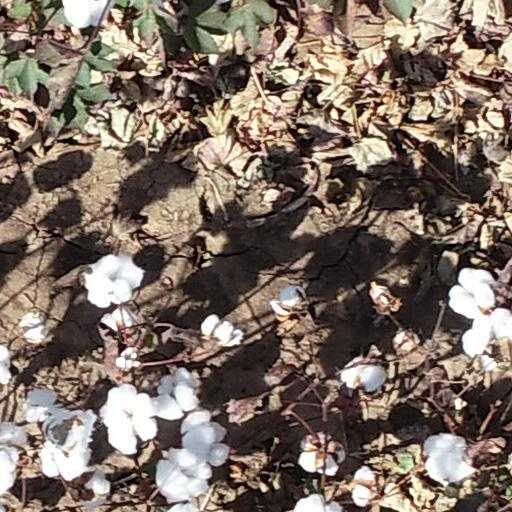Boll: (100, 386, 158, 447), (83, 253, 143, 305), (155, 448, 210, 501), (423, 433, 477, 486), (183, 409, 230, 466), (447, 265, 497, 317), (461, 309, 512, 356), (44, 410, 97, 450), (298, 432, 345, 476), (156, 368, 196, 418), (39, 442, 89, 479), (3, 421, 26, 497), (203, 313, 244, 347), (62, 1, 111, 29), (341, 358, 383, 390), (102, 310, 141, 342), (351, 465, 380, 507), (20, 388, 57, 420), (268, 284, 302, 317), (294, 493, 345, 512), (85, 471, 112, 506), (21, 313, 49, 344), (118, 349, 140, 372), (1, 347, 12, 384)
